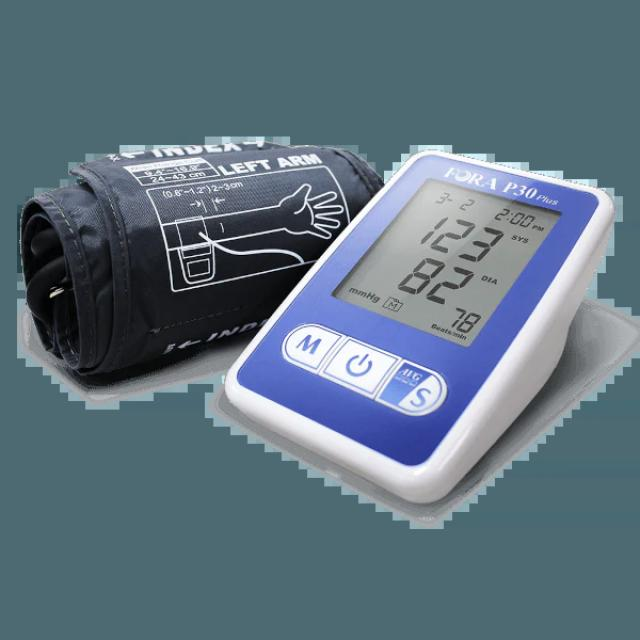dia: (385, 237, 493, 320)
pul: (430, 293, 488, 343)
ssd: (333, 133, 563, 377)
sys: (401, 200, 511, 275)
